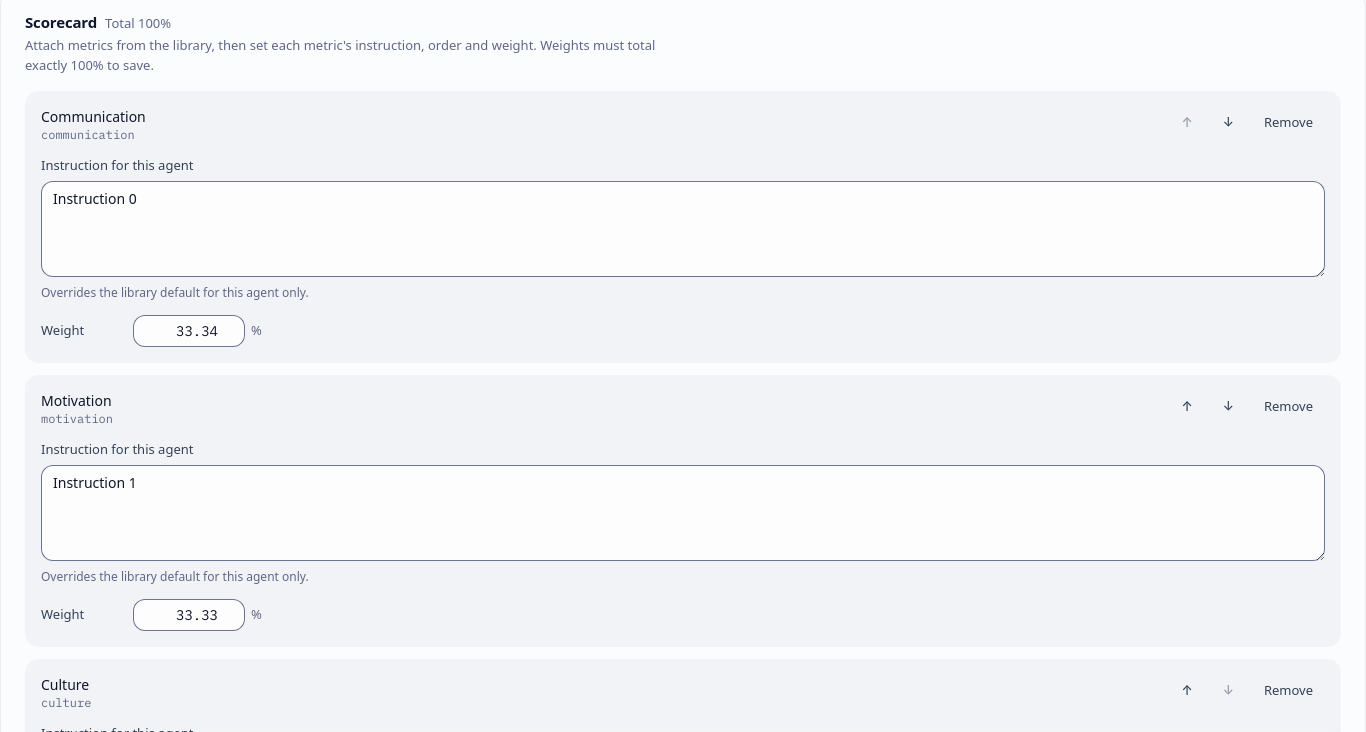
Test case: RoleScorecardEditor › REFUSES to save an incomplete set, naming the direction and the amount
Expected: the text "Communication" is shown, [41,107,146,127]
Replace the text in the number field named "Weight for Communication" with "50": (189, 331) [133,315,245,347]
(page scrolled)
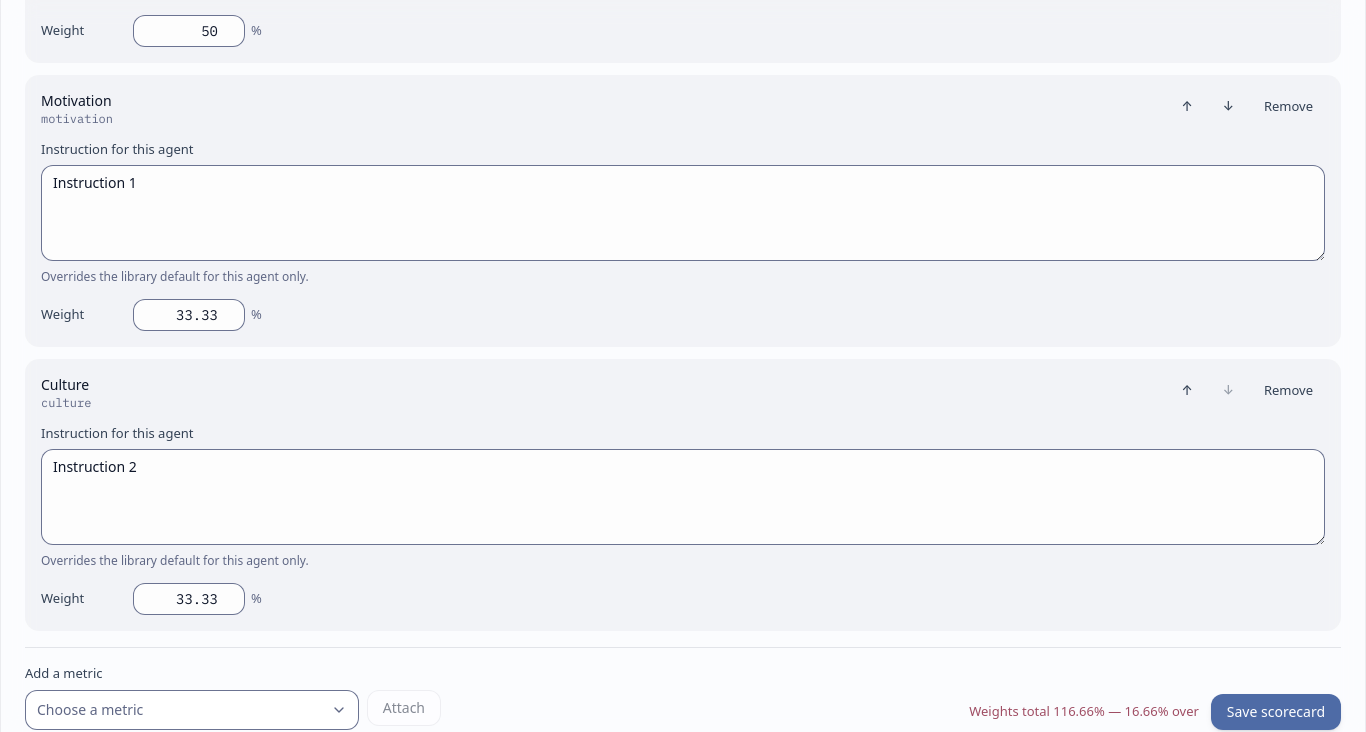
Click the button "Save scorecard": (1276, 712) [1211,694,1341,730]
(page scrolled)
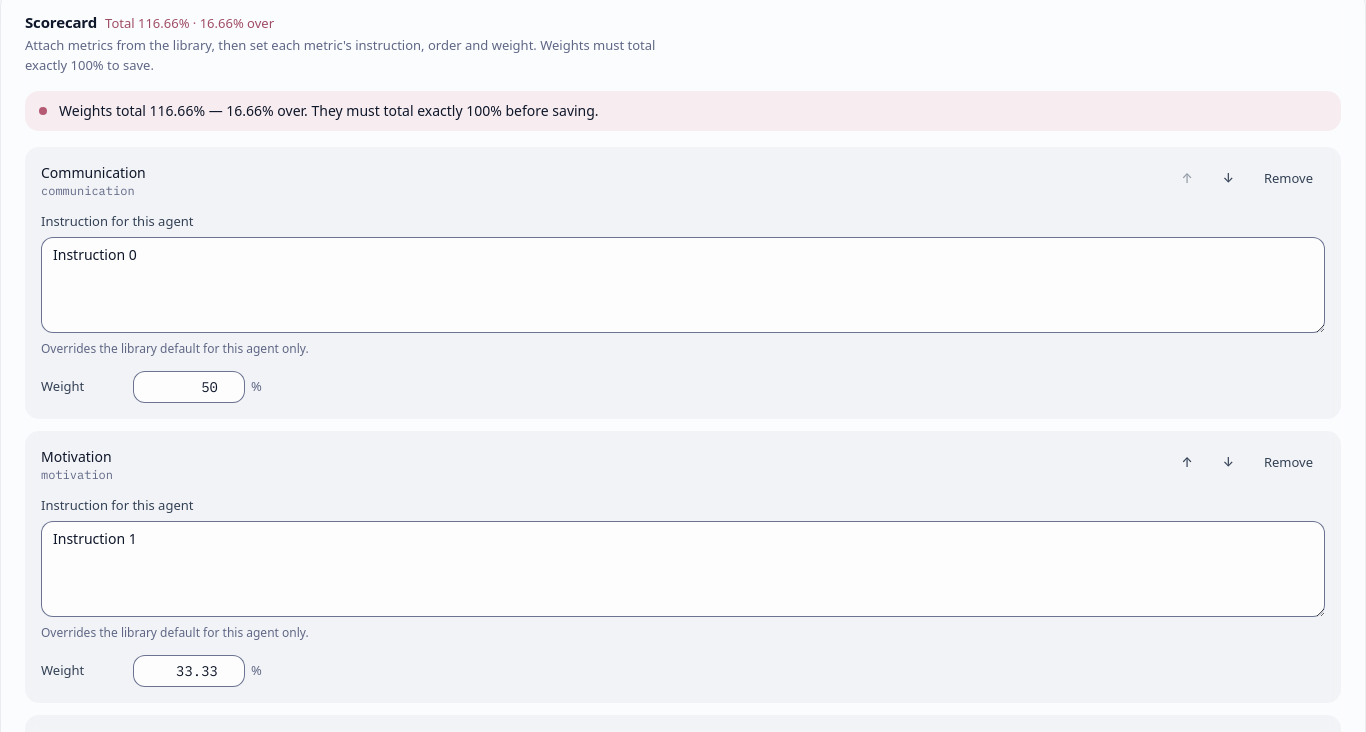
Now the 2nd message reads "Weights total 116.66% — 16.66% over. They must total exactly 100% before saving.", box [59,101,599,120]
